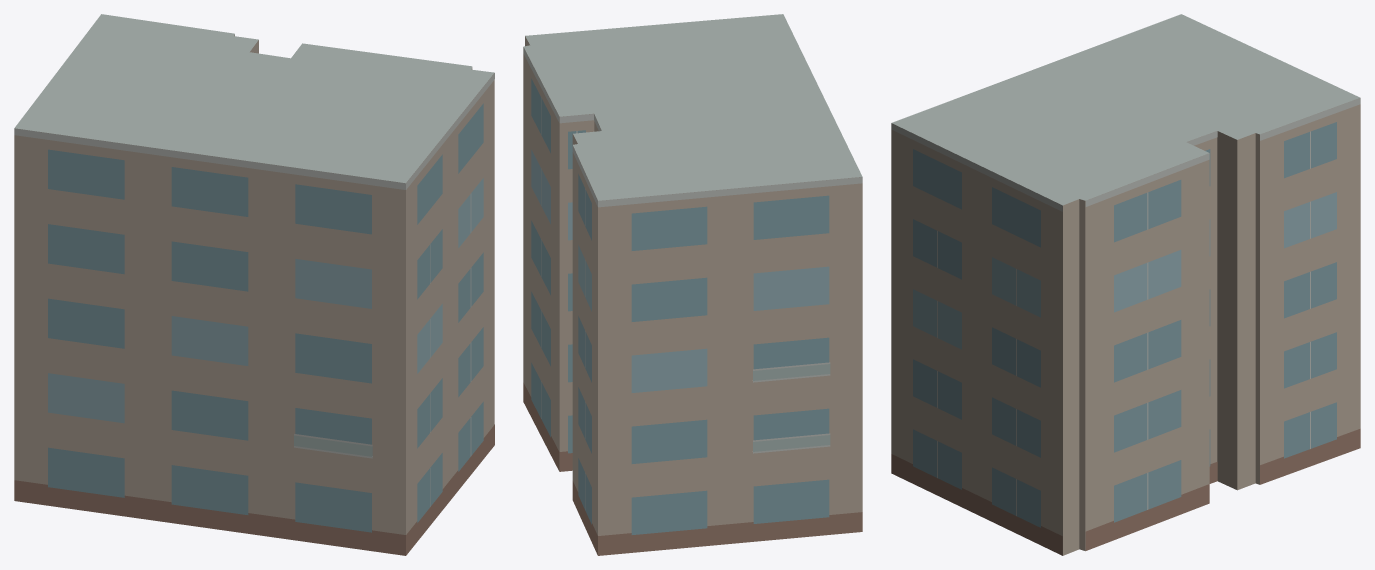
Rendered from survey-upis-32872061.glb.
3 views of the same model, side by side, from view 1: azimuth 30°, elevation 25°; view 2: azimuth 150°, elevation 25°; view 3: azimuth 270°, elevation 25° (orthographic). The views are drawn at different scales.
Parts seen in each view (by area): view 1: survey-upis-32872061.tmp; view 2: survey-upis-32872061.tmp; view 3: survey-upis-32872061.tmp.
Part boxes in pixels (x1,y1,x2,y2): survey-upis-32872061.tmp: (14, 14, 494, 555); survey-upis-32872061.tmp: (523, 14, 862, 555); survey-upis-32872061.tmp: (891, 14, 1360, 555).
Bounding box in the file's own units: 15.42 × 13.15 × 15.97.
